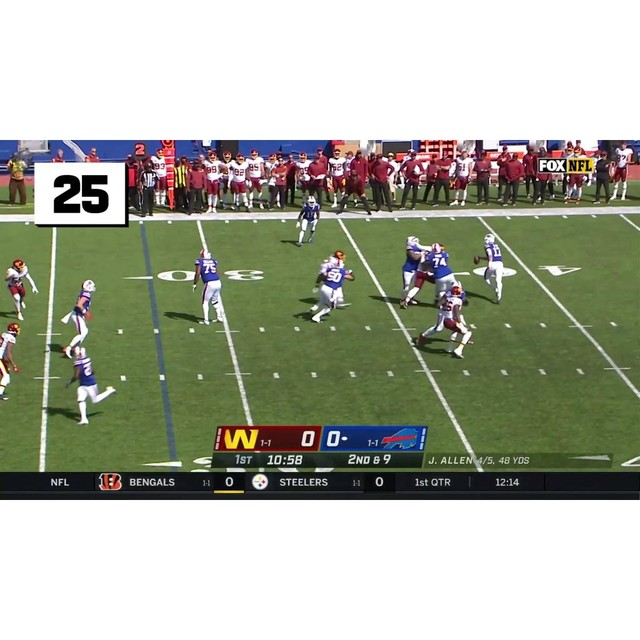american-football-player: (64, 347, 116, 424), (413, 283, 466, 348), (298, 260, 347, 325), (59, 280, 96, 356), (401, 242, 442, 309), (192, 248, 224, 325), (443, 285, 474, 358), (474, 234, 505, 303), (4, 260, 38, 320), (0, 323, 21, 401), (429, 241, 457, 296), (296, 196, 321, 247)
referee: (136, 162, 159, 219)
